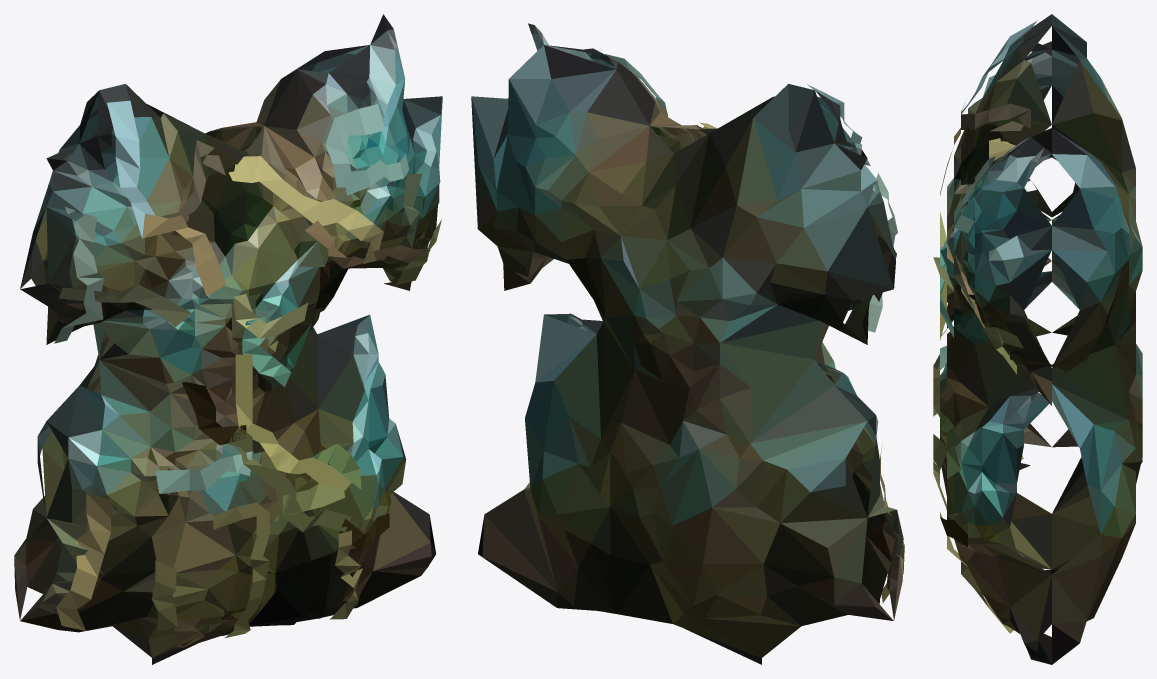
Rendered from B08_6_verdant_crystal_body.obj.
3 views of the same model, side by side, from view 1: azimuth 30°, elevation 25°; view 2: azimuth 150°, elevation 25°; view 3: azimuth 270°, elevation 25° (orthographic). The views are drawn at different scales.
Visible parts, largest first — view 1: B08_6_verdant_crystal_body; view 2: B08_6_verdant_crystal_body; view 3: B08_6_verdant_crystal_body.
Boxes of the visible parts, left/top/right/bottom form: B08_6_verdant_crystal_body: left=14, top=14, right=442, bottom=664; B08_6_verdant_crystal_body: left=471, top=23, right=904, bottom=664; B08_6_verdant_crystal_body: left=933, top=14, right=1142, bottom=664.
Size of the model in its own units: 64 by 86 by 30.
